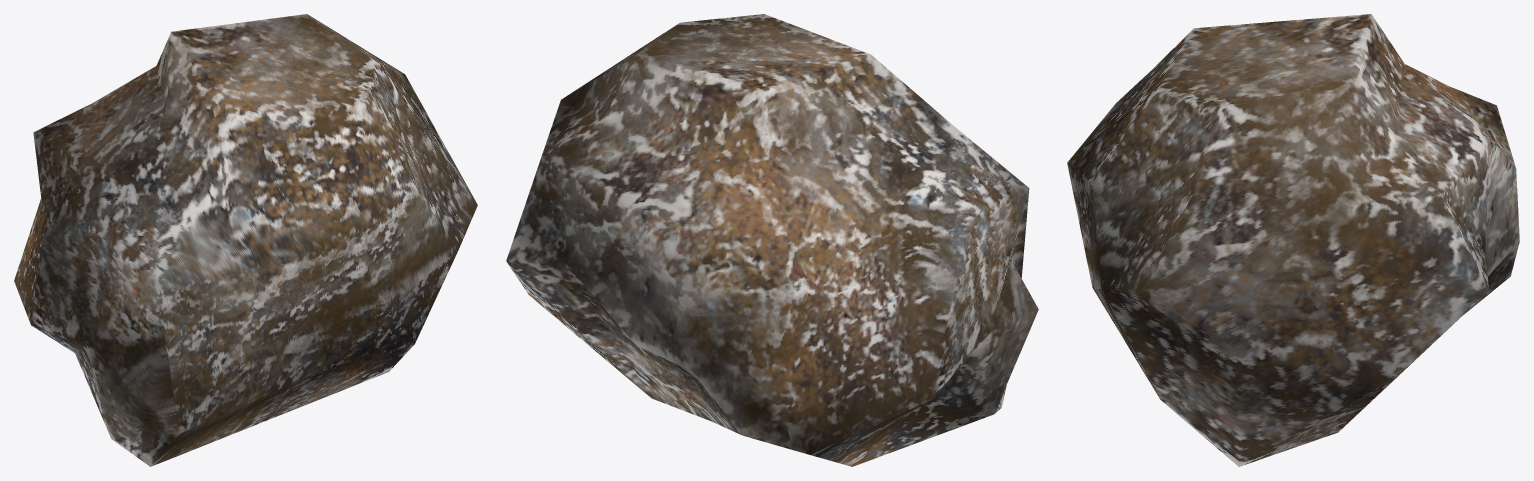
The model's file is SM_pebble_03.fbx.
3 renders of one model, left to right at view 1: azimuth 30°, elevation 25°; view 2: azimuth 150°, elevation 25°; view 3: azimuth 270°, elevation 25°, orthographic. The views are drawn at different scales.
Visible parts, largest first — view 1: SM_pebble_03_LOD0; view 2: SM_pebble_03_LOD0; view 3: SM_pebble_03_LOD0.
Part boxes in pixels (x1,y1,x2,y2): SM_pebble_03_LOD0: (14,14,477,466); SM_pebble_03_LOD0: (506,14,1038,466); SM_pebble_03_LOD0: (1067,14,1519,466).
Bounding box in the file's own units: 11.42 × 11.23 × 10.73.
Materials: 1 (1 with a texture image).
